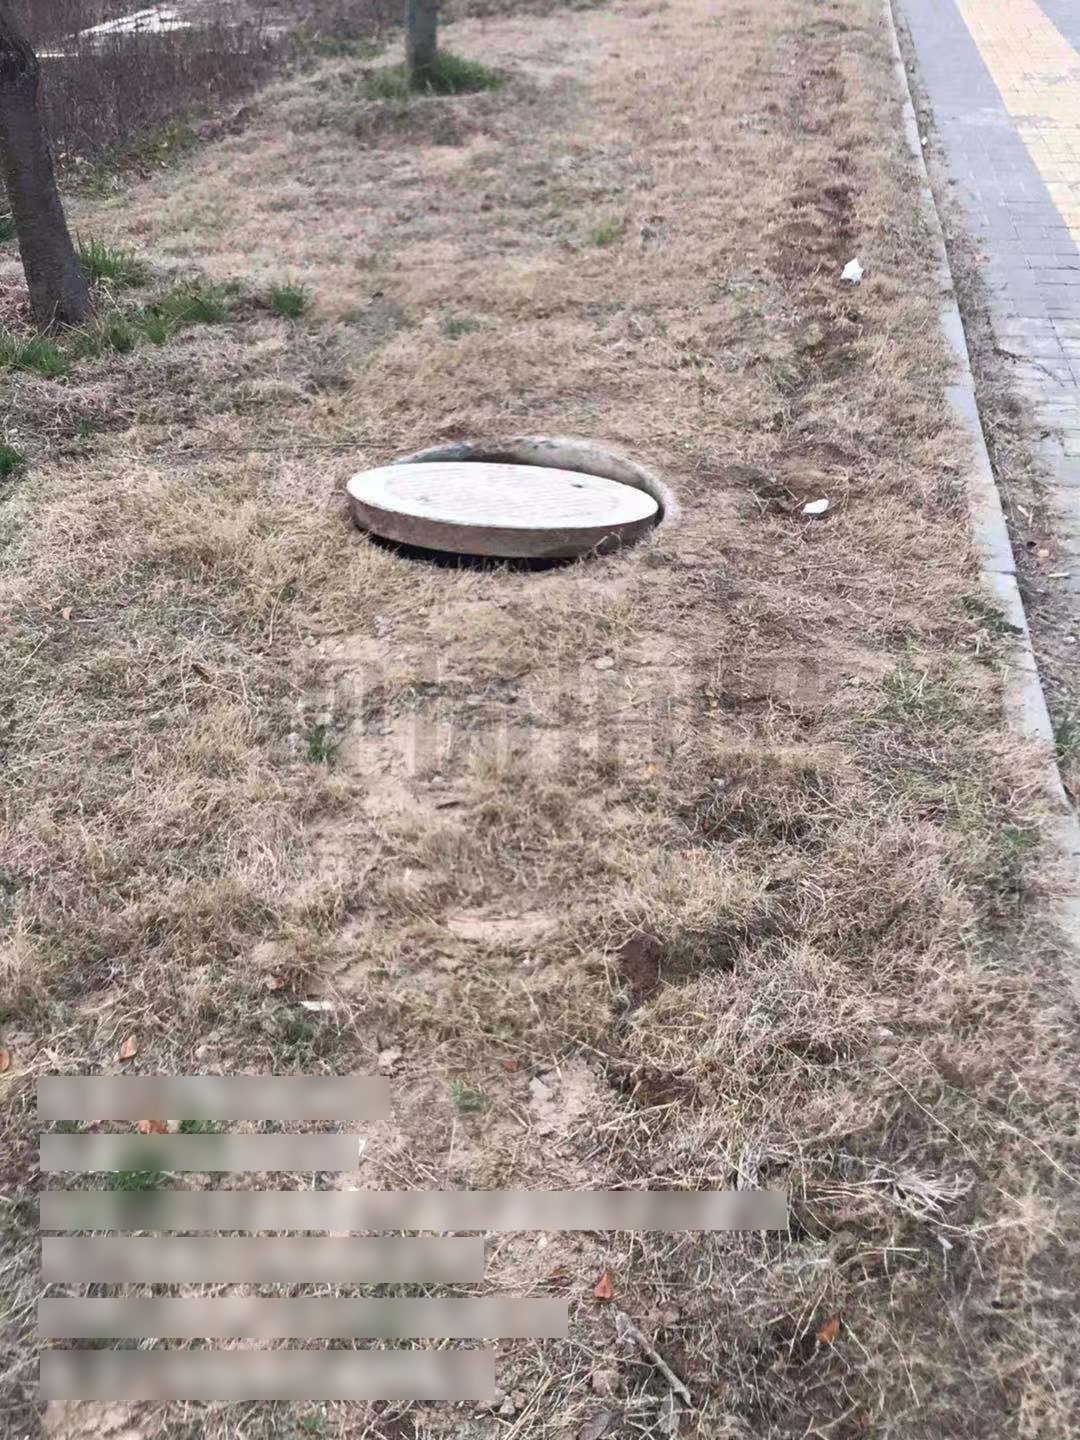uncovered: (345, 437, 683, 578)
